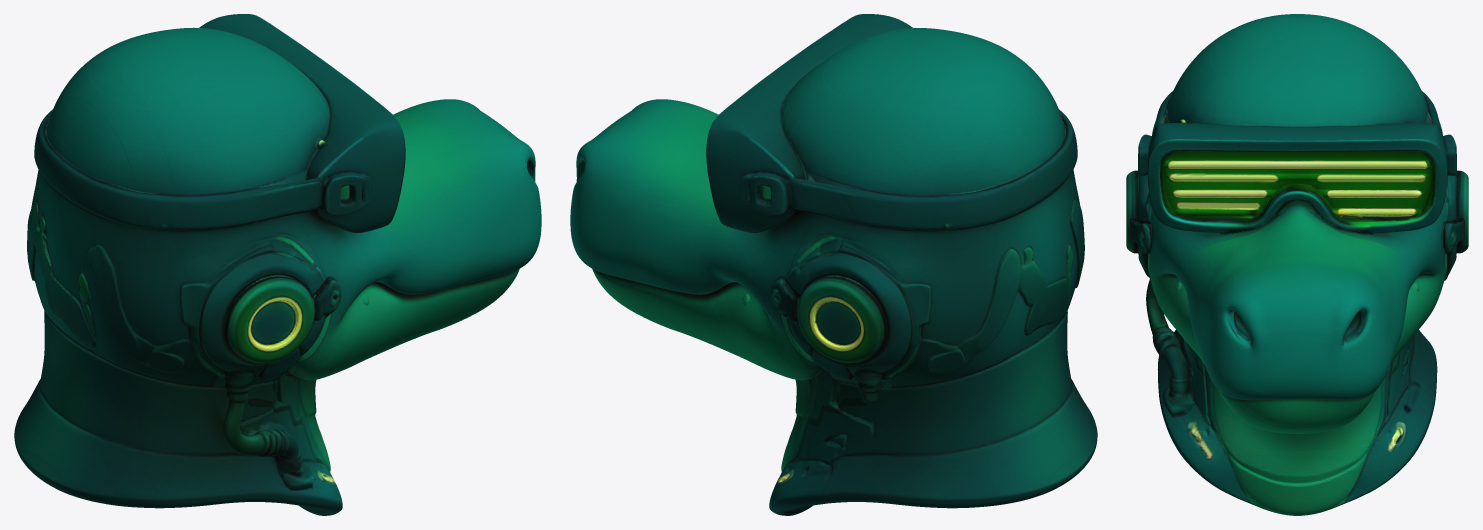
File: Cyber-dino.glb
The picture shows the model from 3 angles, left to right: view 1: azimuth 30°, elevation 25°; view 2: azimuth 150°, elevation 25°; view 3: azimuth 270°, elevation 25°; orthographic projection. The views are drawn at different scales.
Visible parts, largest first — view 1: tripo_node_ea4b0ca9-3463-4192-8f19-9866add0da2d; view 2: tripo_node_ea4b0ca9-3463-4192-8f19-9866add0da2d; view 3: tripo_node_ea4b0ca9-3463-4192-8f19-9866add0da2d.
Part boxes in pixels (bbox=[...]): tripo_node_ea4b0ca9-3463-4192-8f19-9866add0da2d: bbox=[14, 14, 541, 515]; tripo_node_ea4b0ca9-3463-4192-8f19-9866add0da2d: bbox=[570, 14, 1097, 515]; tripo_node_ea4b0ca9-3463-4192-8f19-9866add0da2d: bbox=[1126, 14, 1468, 515].
Size of the model in its own units: 1 by 0.964 by 0.6926.
Materials: 1 (1 with a texture image).
